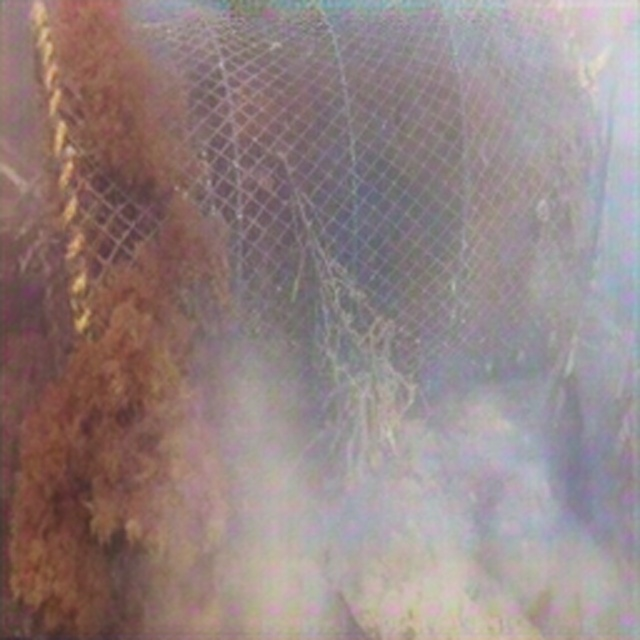mine: (26, 0, 610, 439)
